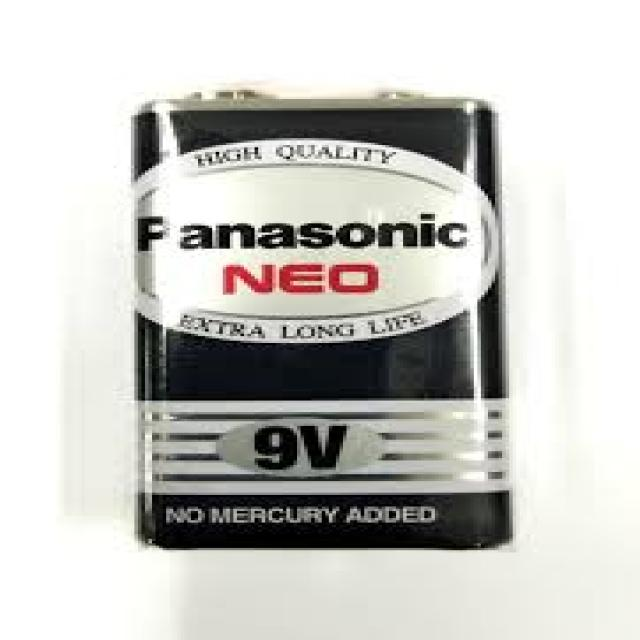battery: (110, 45, 536, 577)
